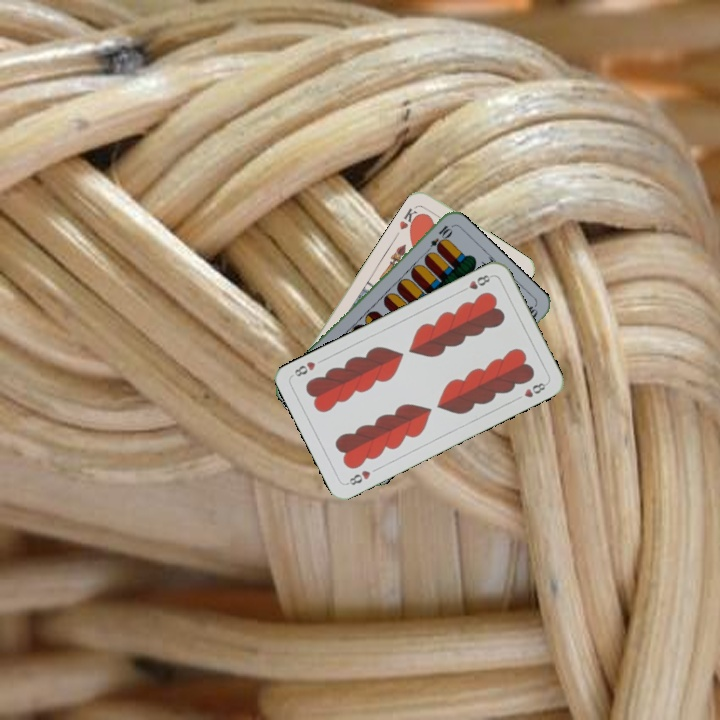E10: (422, 221, 454, 257)
H8: (457, 271, 495, 295), (343, 466, 373, 488)
HK: (395, 201, 424, 234)
